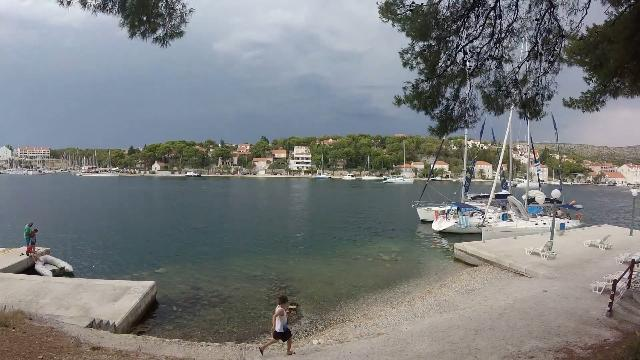Sailboat: (382, 172, 418, 186)
